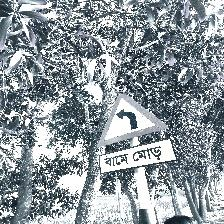Left-Turn: (97, 94, 177, 174)
